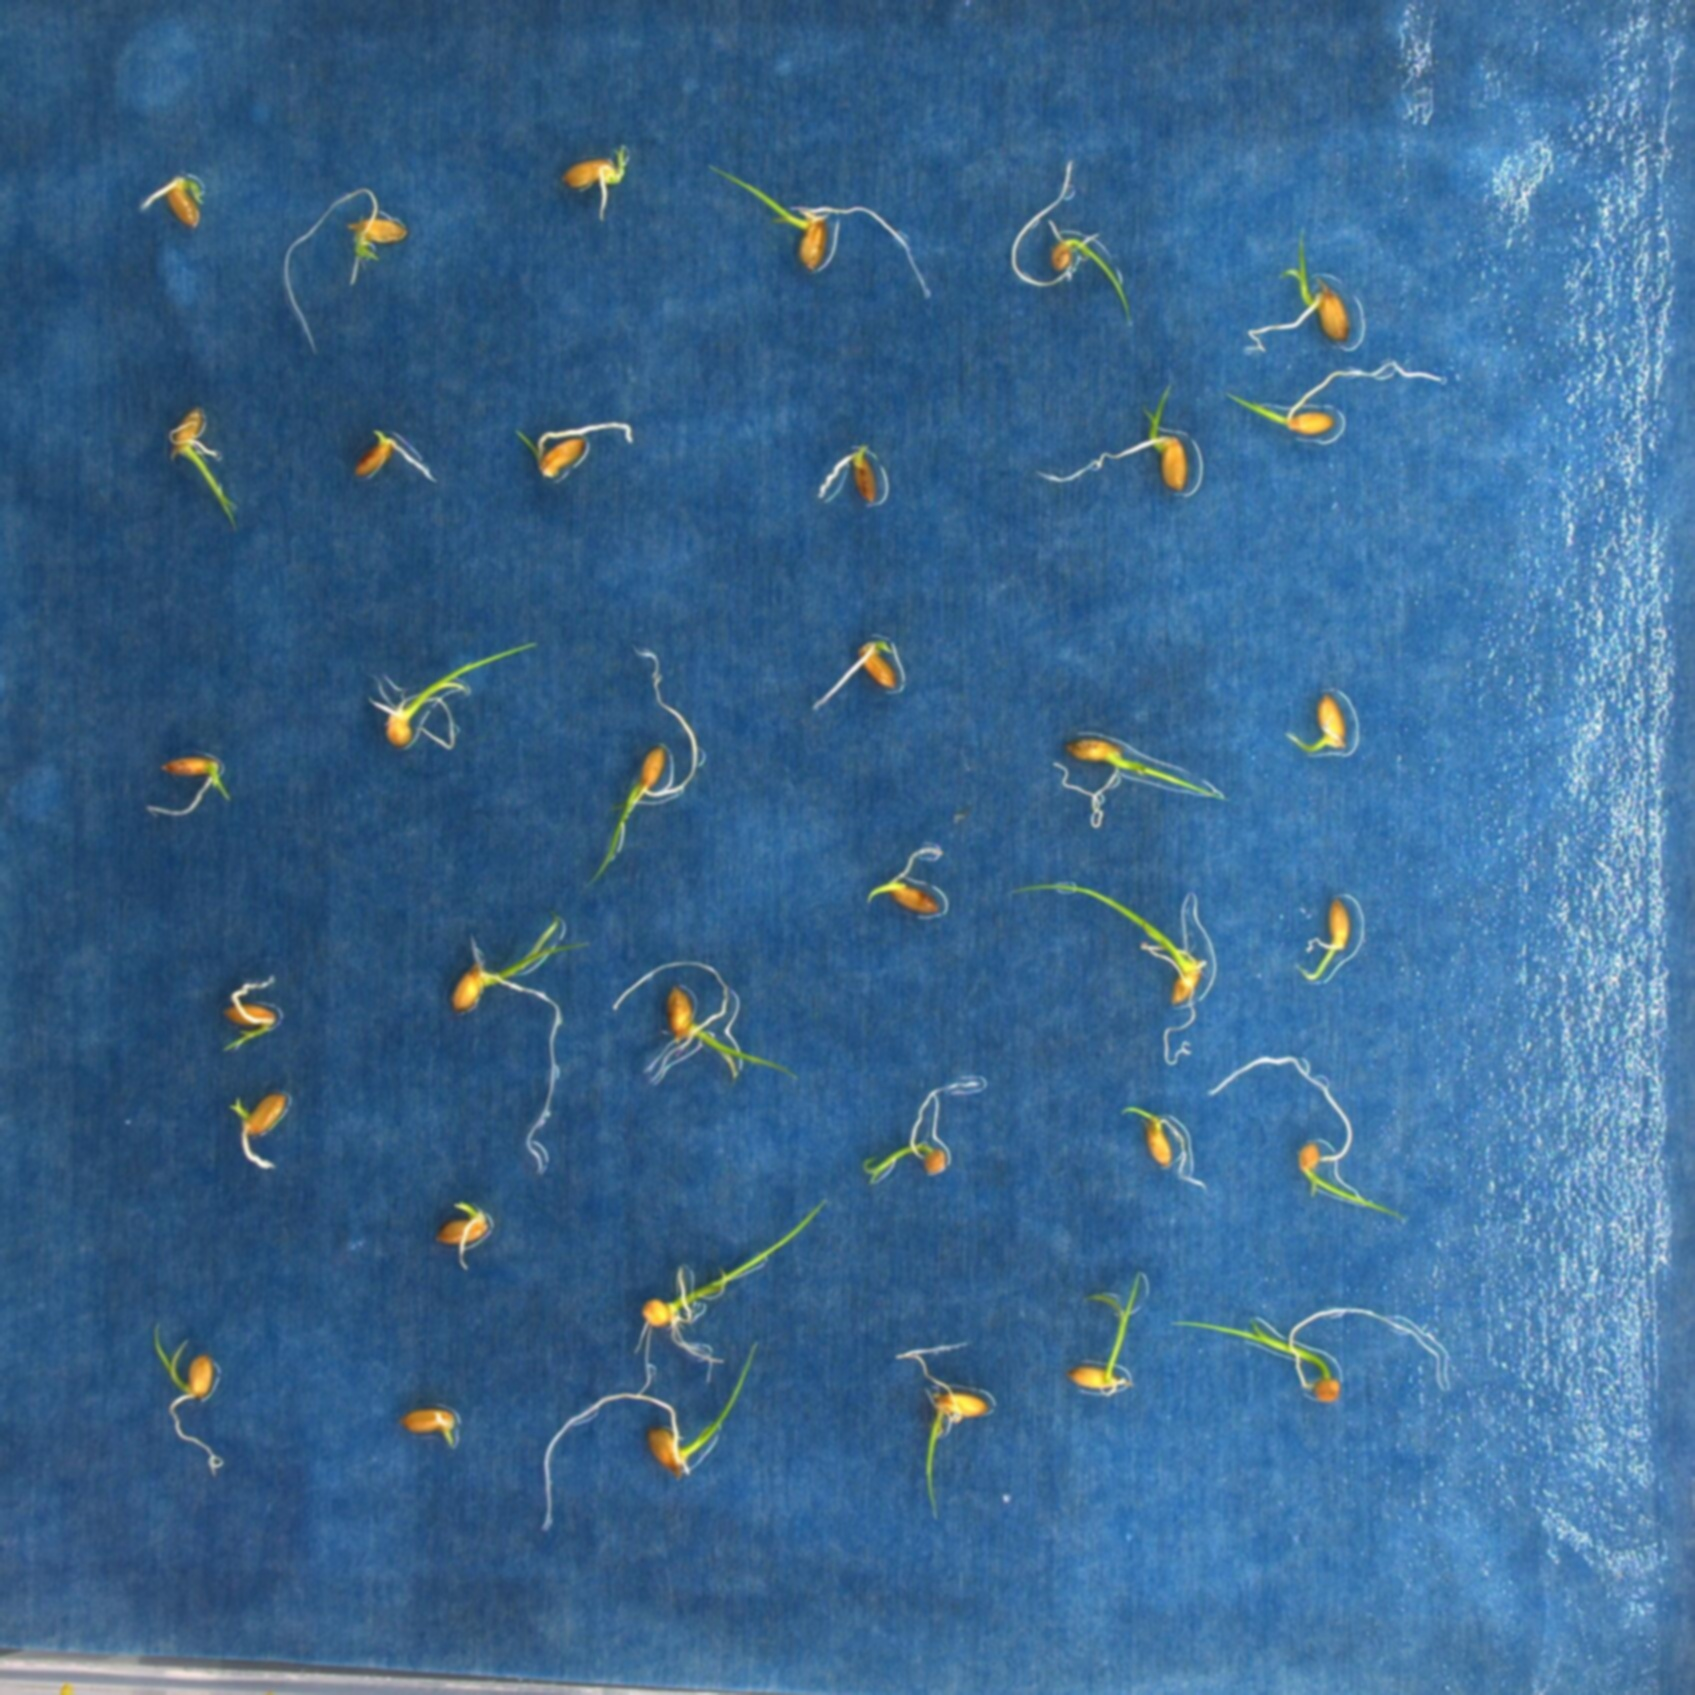not sprout: (511, 414, 649, 489), (1114, 1097, 1215, 1198), (810, 629, 906, 716), (224, 1085, 295, 1178), (346, 414, 438, 484), (140, 161, 220, 241), (818, 441, 899, 520), (432, 1187, 500, 1274), (394, 1400, 467, 1450)
sprout: (1006, 869, 1226, 1065), (622, 1201, 840, 1399), (539, 1347, 767, 1530), (1201, 1045, 1420, 1234), (706, 157, 931, 310), (442, 914, 570, 1181), (1170, 1298, 1453, 1412), (612, 956, 807, 1101), (582, 647, 700, 885), (998, 152, 1139, 340), (362, 629, 543, 767), (275, 183, 418, 354), (1220, 354, 1467, 447), (1040, 373, 1209, 504), (1243, 220, 1377, 369), (889, 1340, 995, 1518), (1052, 726, 1226, 832), (140, 1312, 244, 1478), (857, 1073, 984, 1197), (160, 397, 248, 532), (1073, 1270, 1158, 1403), (857, 832, 964, 925), (137, 736, 242, 827), (1291, 886, 1371, 987), (1282, 683, 1366, 761), (553, 140, 632, 220), (216, 976, 289, 1060)
